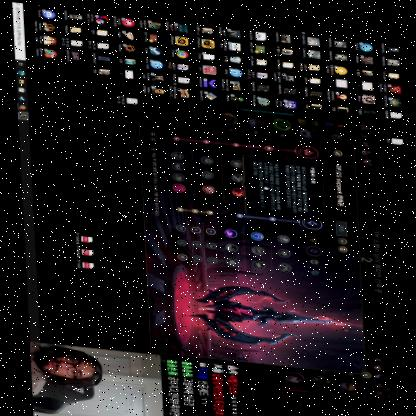streamer: (26, 340, 99, 400)
